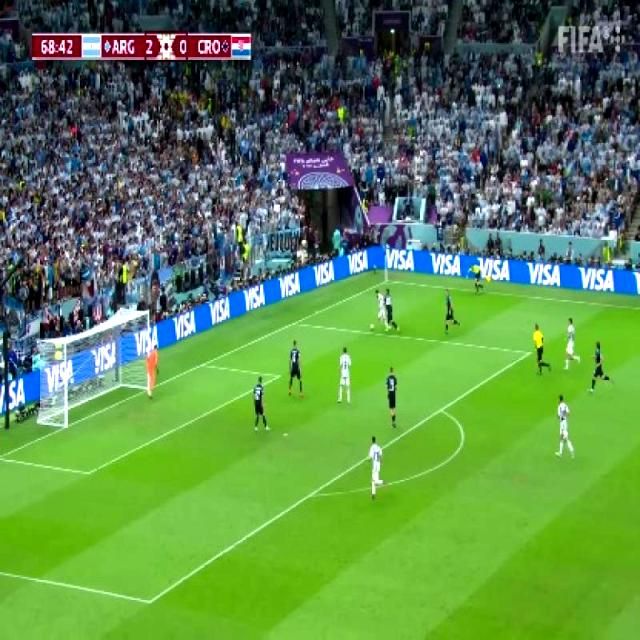bigarea_bottom_inner: (138, 586, 160, 616)
bigarea_top_inner: (521, 343, 536, 362)
bigarea_top_outter: (288, 312, 302, 330)
bottom_arc_area_intersection: (302, 482, 320, 504)
corner: (378, 274, 394, 286)
smallarea_bottom_inner: (78, 458, 98, 486)
smallarea_bottom_outter: (0, 446, 8, 469)
smallarea_top_inner: (270, 366, 285, 384)
smallarea_top_outter: (194, 354, 209, 374)
top_arc_area_intersection: (432, 398, 450, 418)
